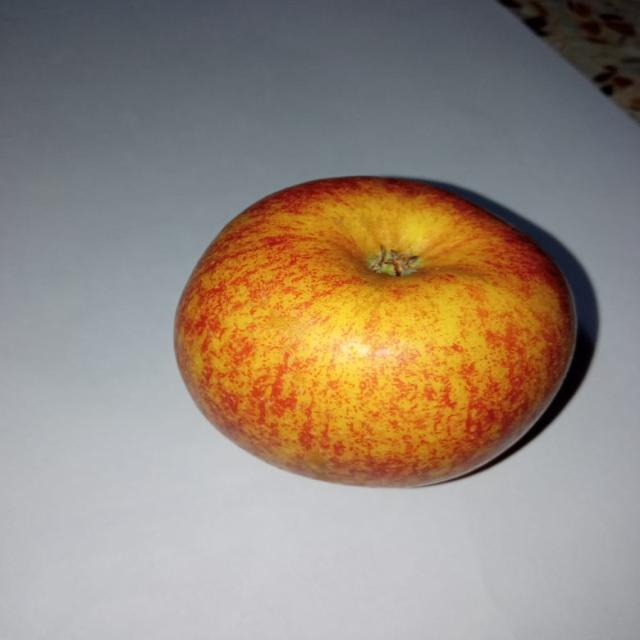fresh_apple: (169, 176, 578, 484)
